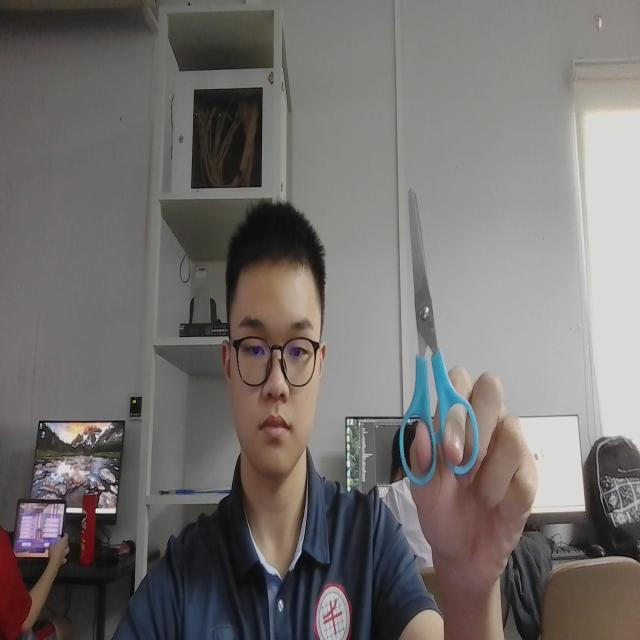scissors: (386, 171, 484, 492)
